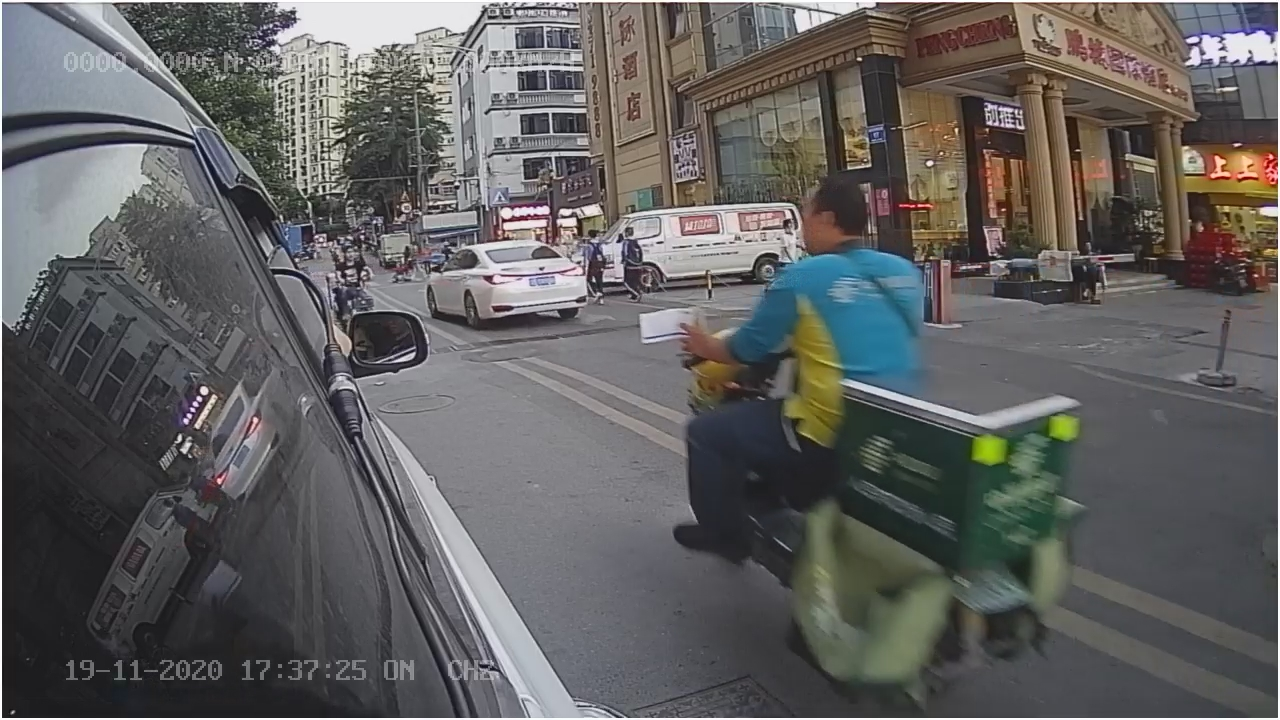person: (738, 169, 941, 348)
